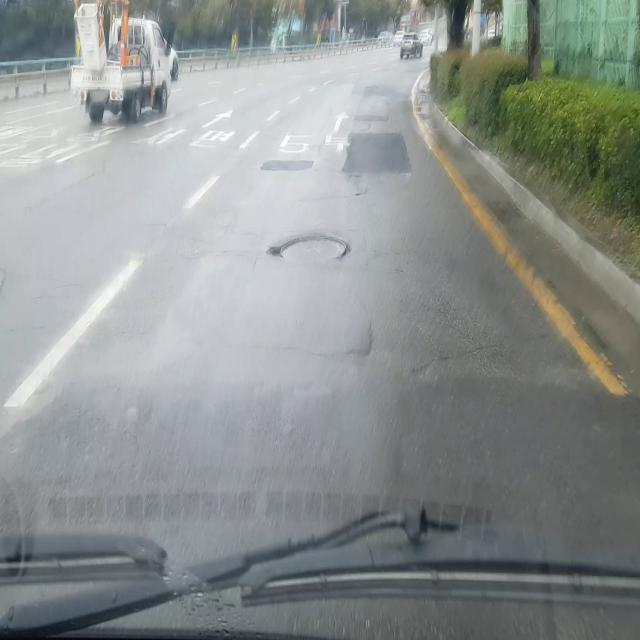Pothole: (266, 233, 352, 266)
